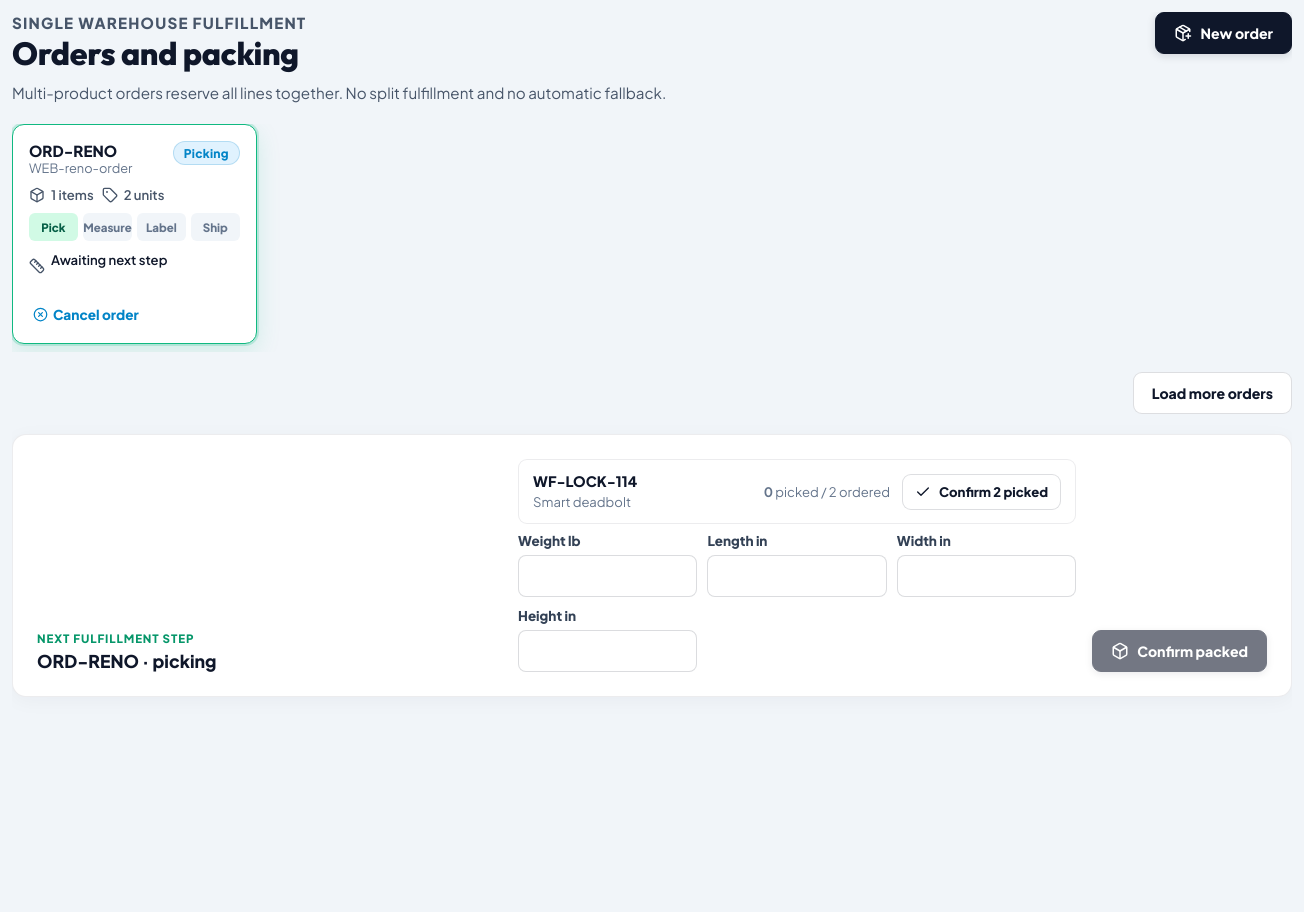
Test: OrdersPage picking safety › loads more orders, deduplicates overlap, and removes the exhausted continuation
Check: the button "ORD-RENO" is shown, box top-left (29, 141), bottom-right (240, 282)
Click the button "Load more orders". click: (1212,393)
box: top-left (1133, 372), bottom-right (1292, 414)
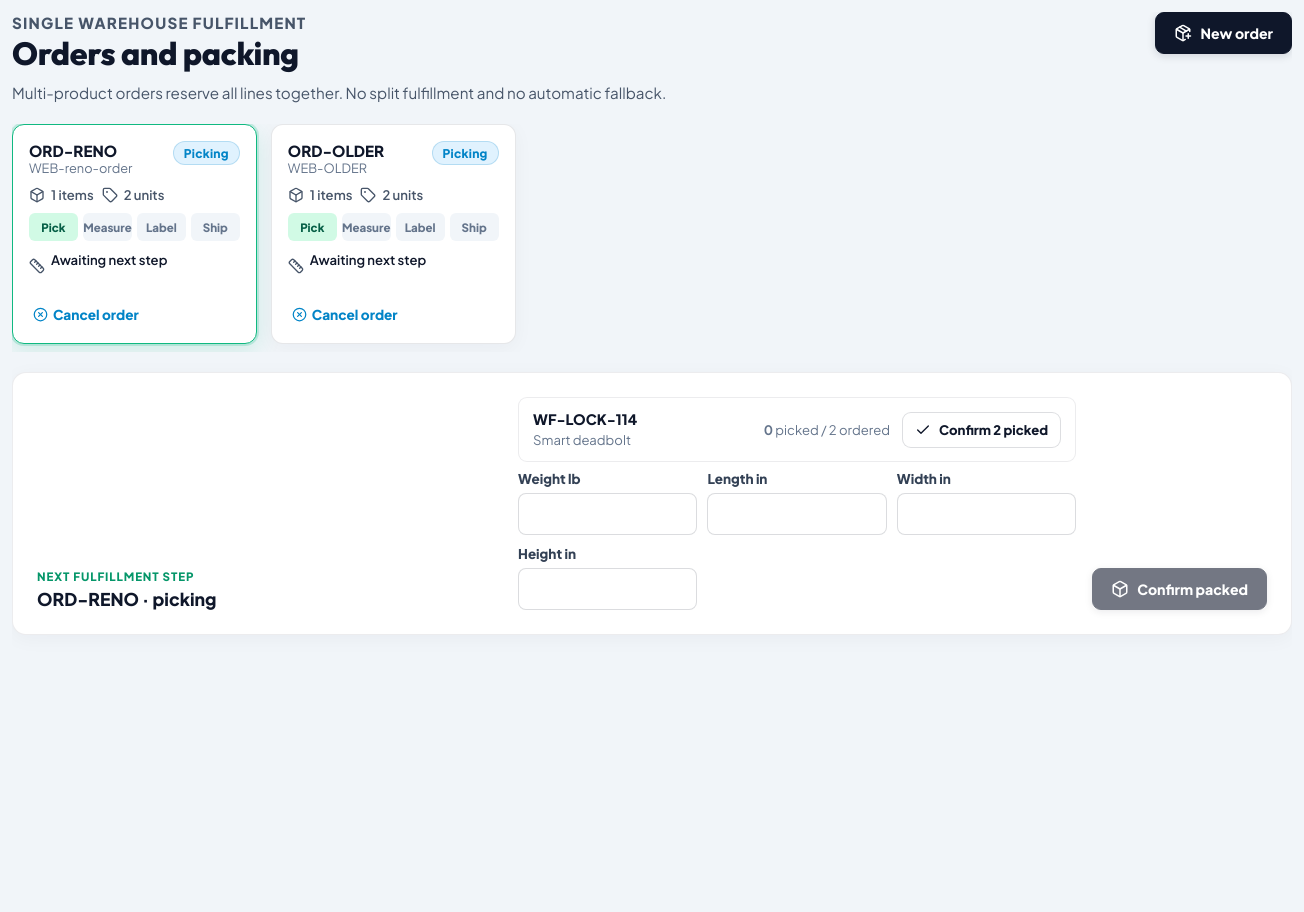
Check: the number of buttons "ORD-RENO" is 1, box top-left (29, 141), bottom-right (240, 282)
Check: the text "ORD-OLDER" is shown, box top-left (288, 141), bottom-right (384, 160)
Check: the button "Load more orders" is gone
